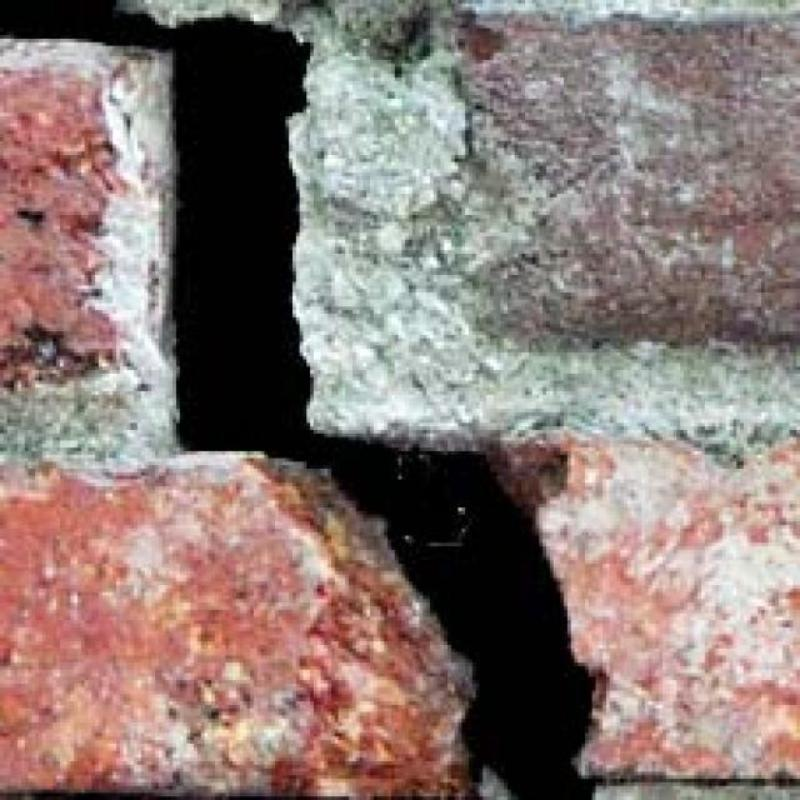pothole: (1, 0, 592, 800)
